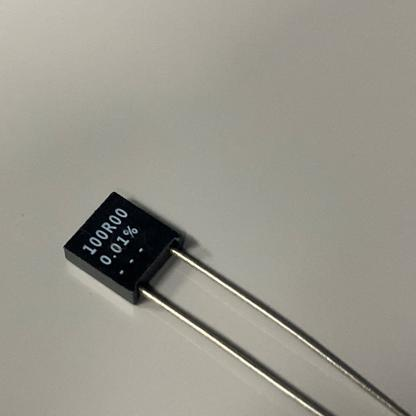SP0000007: (42, 132, 415, 415)
